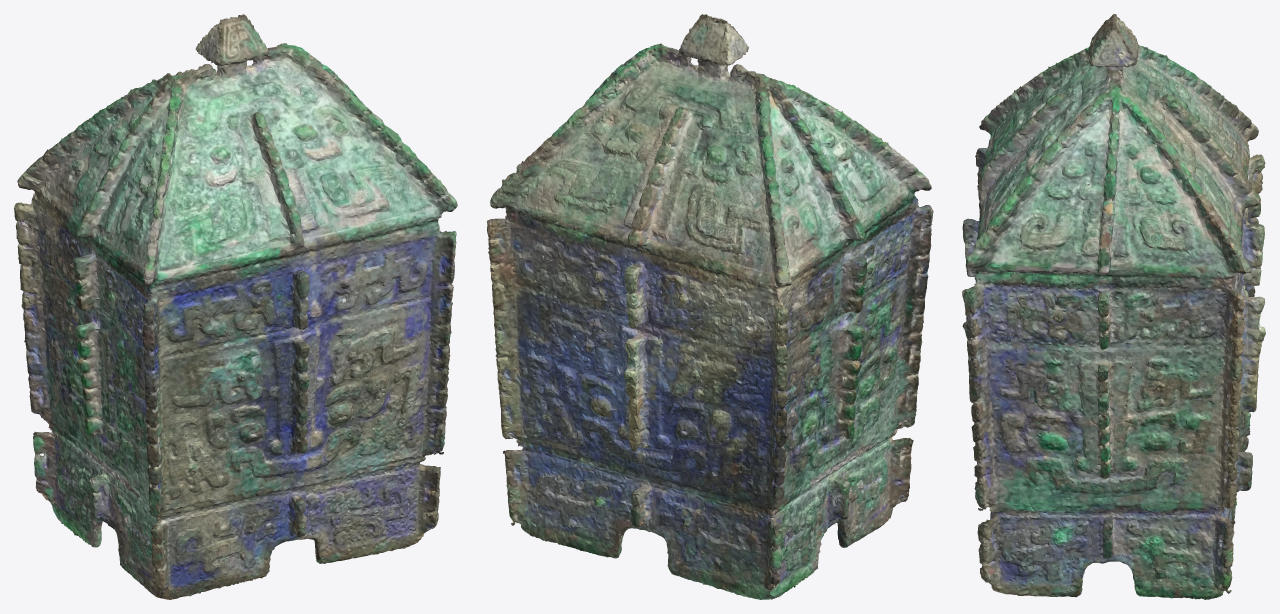
3 renders of one model, left to right at view 1: azimuth 30°, elevation 25°; view 2: azimuth 150°, elevation 25°; view 3: azimuth 270°, elevation 25°, orthographic.
Parts seen in each view (by area): view 1: 0793dc07_dec4_4c12_aabb_7534661d4f7c; view 2: 0793dc07_dec4_4c12_aabb_7534661d4f7c; view 3: 0793dc07_dec4_4c12_aabb_7534661d4f7c.
Boxes of the visible parts, <box> form: 0793dc07_dec4_4c12_aabb_7534661d4f7c: <box>14,14,457,599</box>; 0793dc07_dec4_4c12_aabb_7534661d4f7c: <box>487,14,933,599</box>; 0793dc07_dec4_4c12_aabb_7534661d4f7c: <box>962,14,1265,599</box>.
Size of the model in its own units: 46.12 by 70.71 by 37.66.
1 material, 1 textured.
